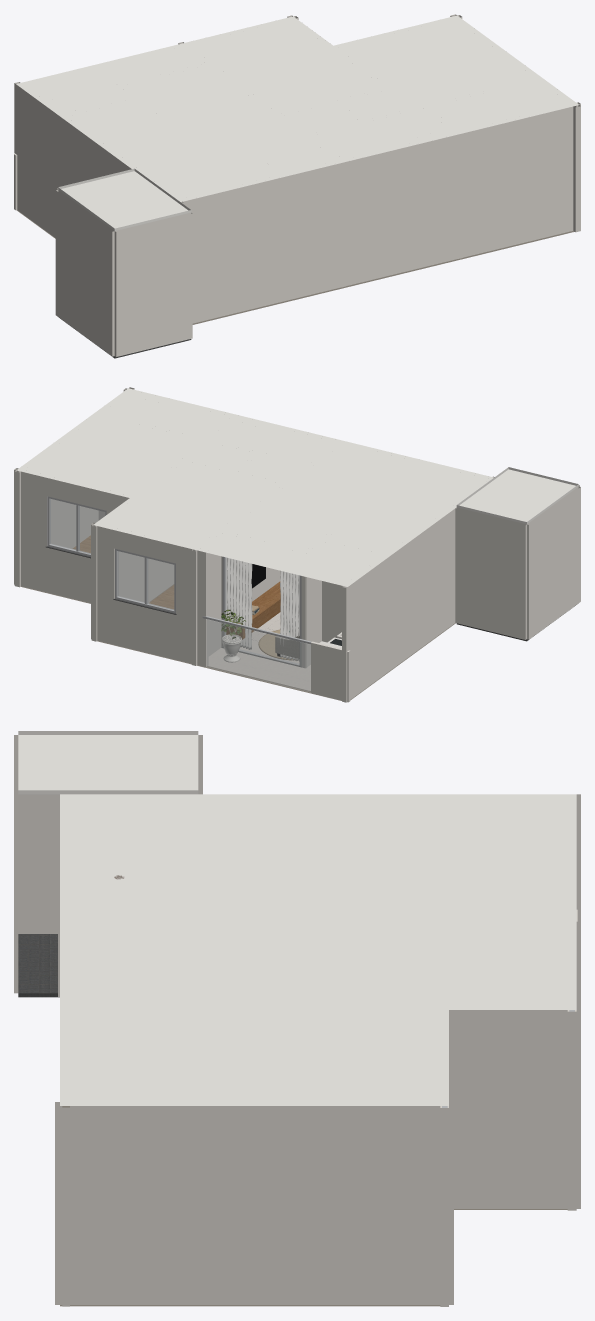
The model's file is apto.glb.
The picture shows the model from 3 angles, top to bottom: view 1: azimuth 30°, elevation 25°; view 2: azimuth 150°, elevation 25°; view 3: azimuth 270°, elevation 25°; orthographic projection. The views are drawn at different scales.
Parts seen in each view (by area): view 1: ARQ_forro, ARQ_paredes, ENTORNO_hall_entrada, laje_inferior; view 2: ARQ_forro, ARQ_paredes, ENTORNO_hall_entrada, VIDROS, ARQ_esquadrias, ARQ_pisos, DEC_cortina_dir, DEC_cortina_esq, MOV_rack, DEC_planta-varanda, laje_inferior, ARQ_piso_porcelanato (+1 smaller); view 3: ARQ_forro, ARQ_paredes, ENTORNO_hall_entrada, laje_inferior.
Part boxes in pixels (<box>): ARQ_forro: <box>16,15,578,201</box>; ARQ_paredes: <box>14,14,580,323</box>; ENTORNO_hall_entrada: <box>55,168,192,358</box>; laje_inferior: <box>17,210,574,324</box>; ARQ_forro: <box>16,388,493,586</box>; ARQ_paredes: <box>14,387,494,702</box>; ENTORNO_hall_entrada: <box>455,467,580,641</box>; VIDROS: <box>50,499,310,692</box>; ARQ_esquadrias: <box>46,496,311,667</box>; ARQ_pisos: <box>73,535,310,690</box>; DEC_cortina_dir: <box>226,557,252,649</box>; DEC_cortina_esq: <box>280,571,299,661</box>; MOV_rack: <box>226,581,280,639</box>; DEC_planta-varanda: <box>221,609,245,662</box>; laje_inferior: <box>21,584,455,700</box>; ARQ_piso_porcelanato: <box>239,612,299,663</box>; ARQ_forro: <box>60,794,576,1105</box>; ARQ_paredes: <box>55,794,580,1306</box>; ENTORNO_hall_entrada: <box>14,731,202,997</box>; laje_inferior: <box>60,1106,567,1306</box>.
Size of the model in its own units: 10.1 by 2.6 by 6.46.
53 materials, 26 textured.
